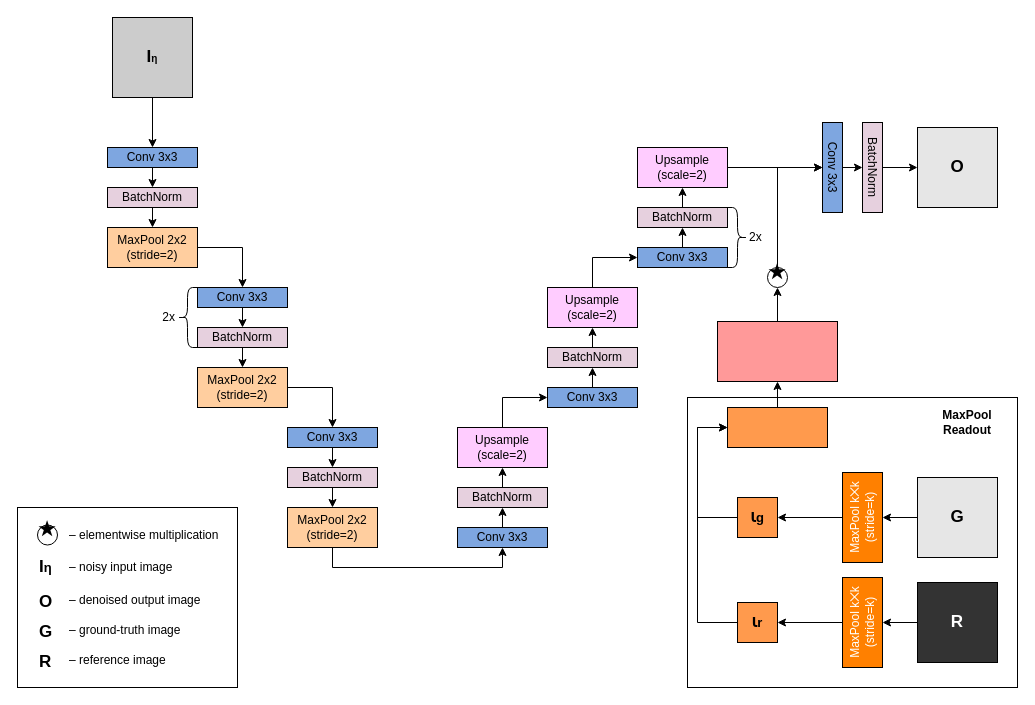
The diagram is 1035 pixels wide and 705 high, and some of its shapes have lost their labels. Each missing label, with the centre of its shape:
"e gt =⍳ g / ⍳ r" goes at pixel 777 427.
"EATME" goes at pixel 777 351.
